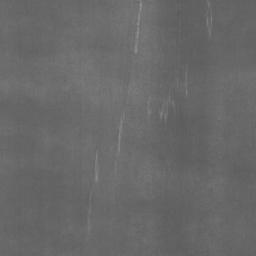Silk spot: (168, 104, 184, 125), (128, 20, 141, 40)
